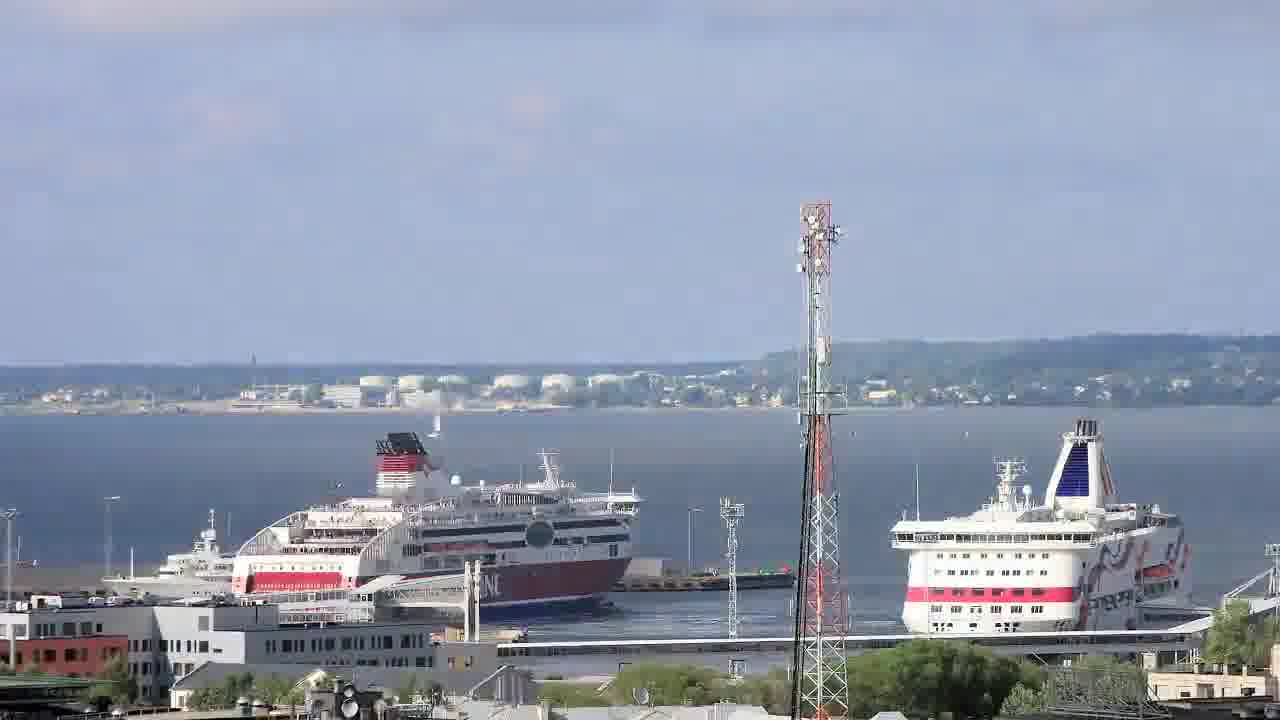type-2: (409, 385, 470, 454)
type-3: (868, 415, 1225, 638), (232, 432, 643, 625), (89, 526, 230, 613)
